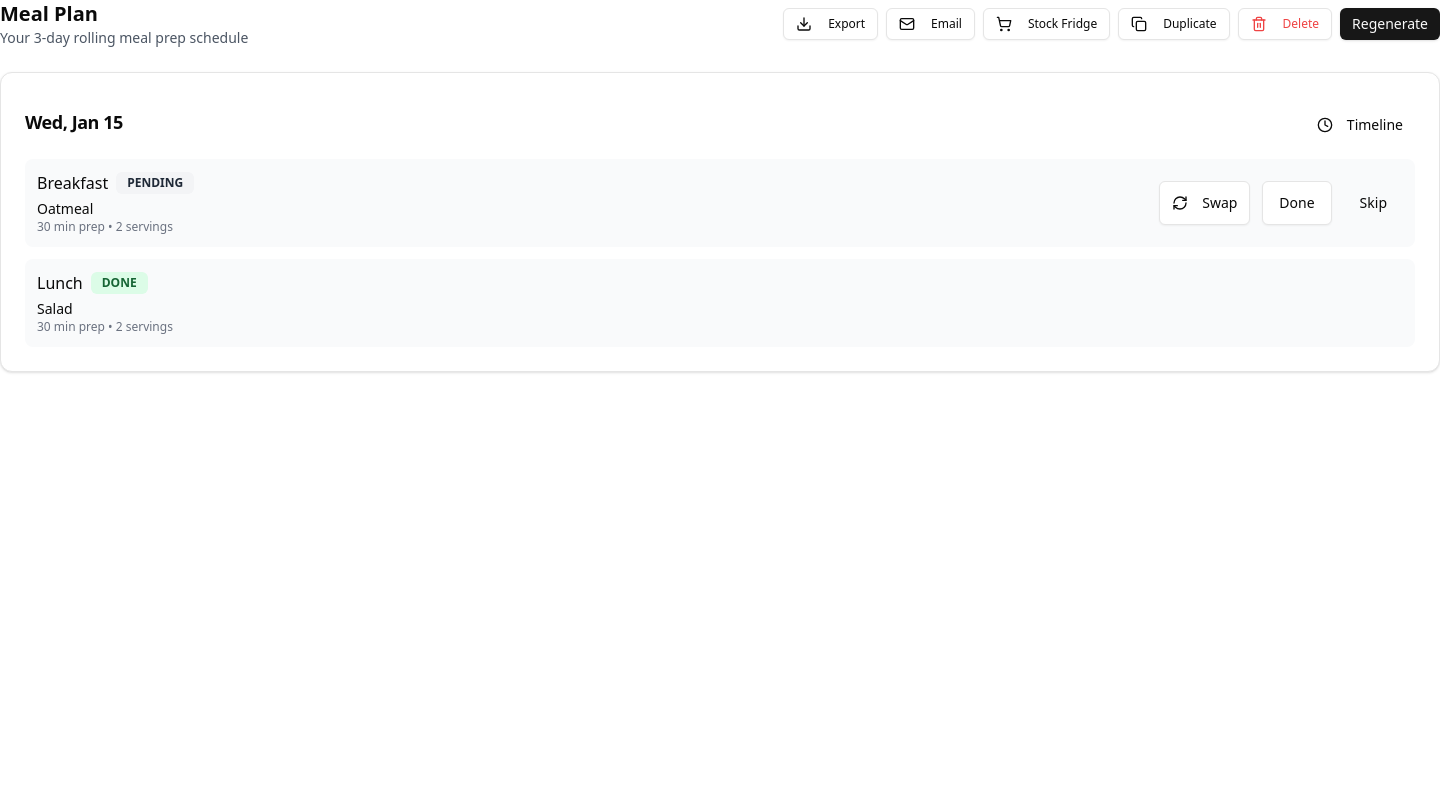
PlanView › swap meal action › should close dialog when Cancel is clicked
Click the button with aria-label "swap breakfast recipe".
click(1205, 203)  # box [1159,181,1250,225]
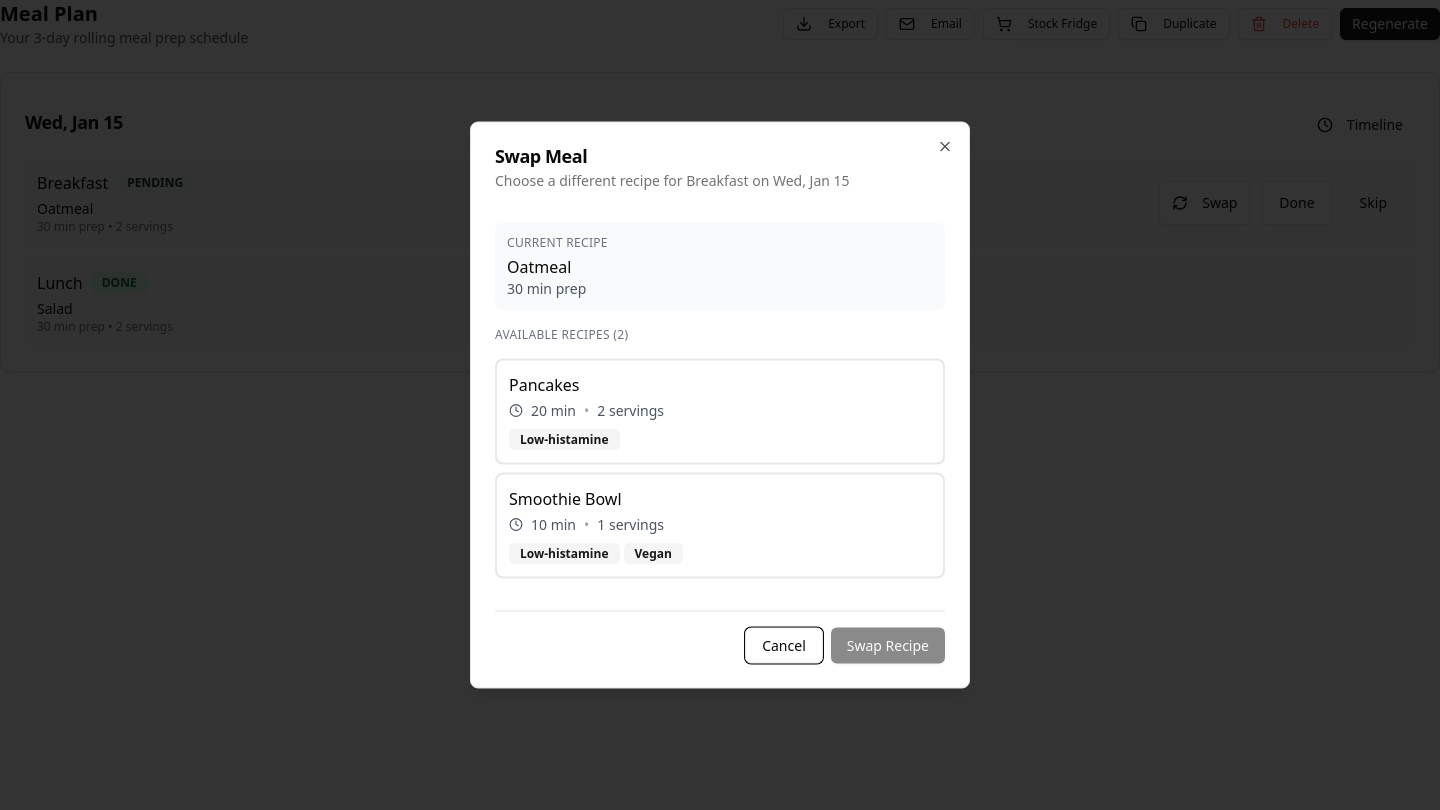
Expected: the dialog is shown, [470,122,970,688]
Click the button "Cancel".
click(784, 646)  # box [745,628,823,664]
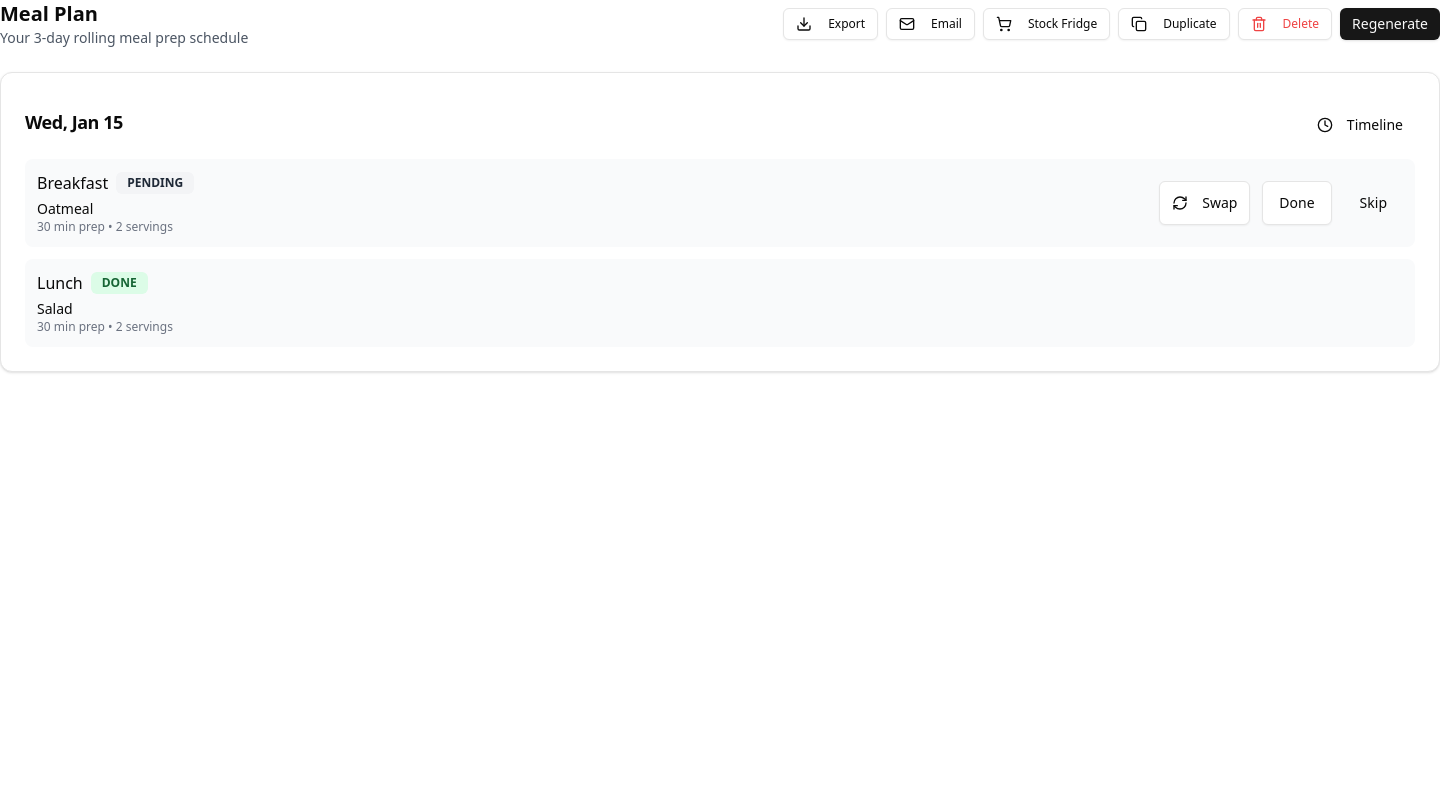
Expected: the dialog is gone
